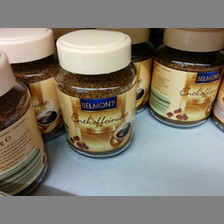coffee: (54, 30, 137, 159), (147, 28, 224, 128)
